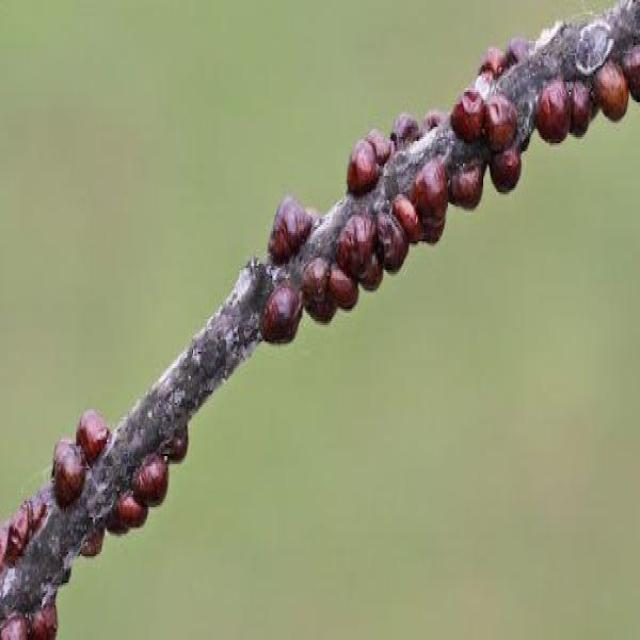Black Scale: (303, 151, 450, 331), (81, 425, 187, 554), (348, 115, 419, 194), (52, 411, 110, 507), (450, 74, 516, 151), (537, 78, 593, 143), (593, 43, 639, 121), (268, 196, 317, 262), (0, 497, 44, 568), (0, 591, 60, 638), (260, 280, 302, 341), (490, 143, 521, 192), (449, 166, 483, 209)
